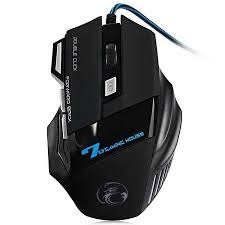mouse: (39, 12, 189, 220)
